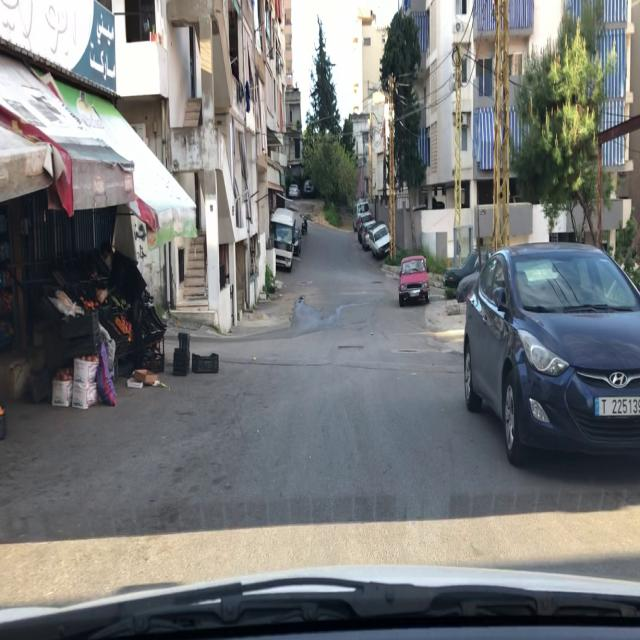Pothole: (338, 344, 364, 352)
